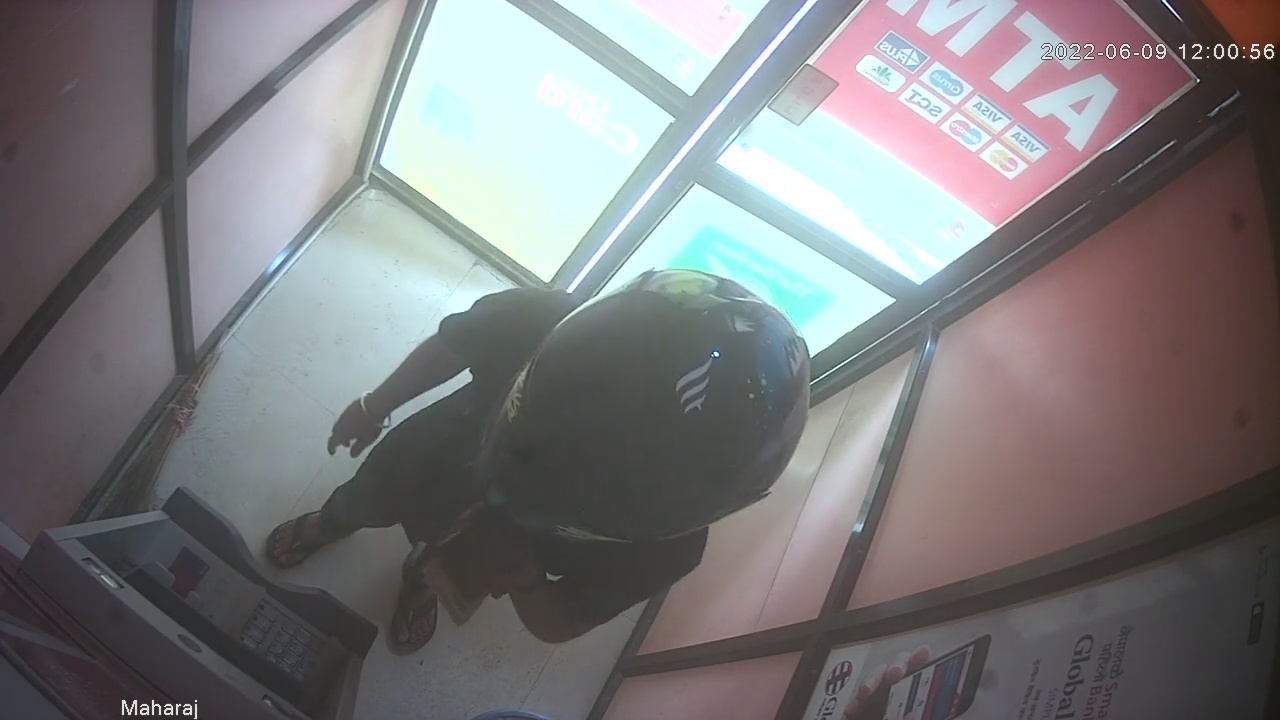helmet: (472, 268, 807, 542)
person: (263, 264, 812, 657)
